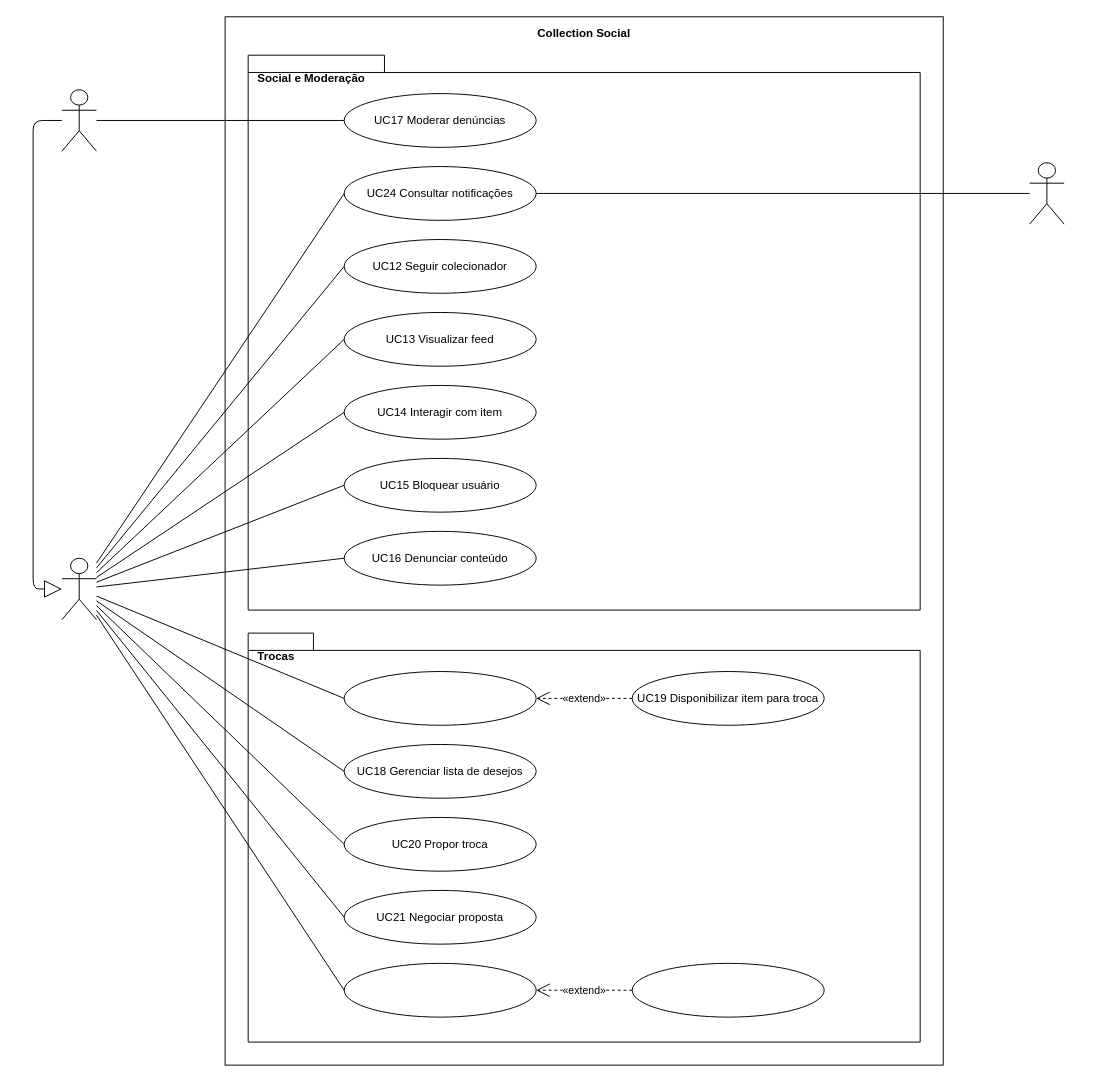
The diagram is 1107 pixels wide and 1082 high, and some of its shapes have lost their labels. The shapes that lost their labels are listed below. From the top down, each one's centre as x and y in pixels, then its label:
[78,120]: Moderador
[1046,193]: Serviço de Email
[78,588]: Colecionador
[439,698]: UC09 Gerenciar itens
[439,989]: UC22 Concluir troca
[727,989]: UC23 Avaliar troca
